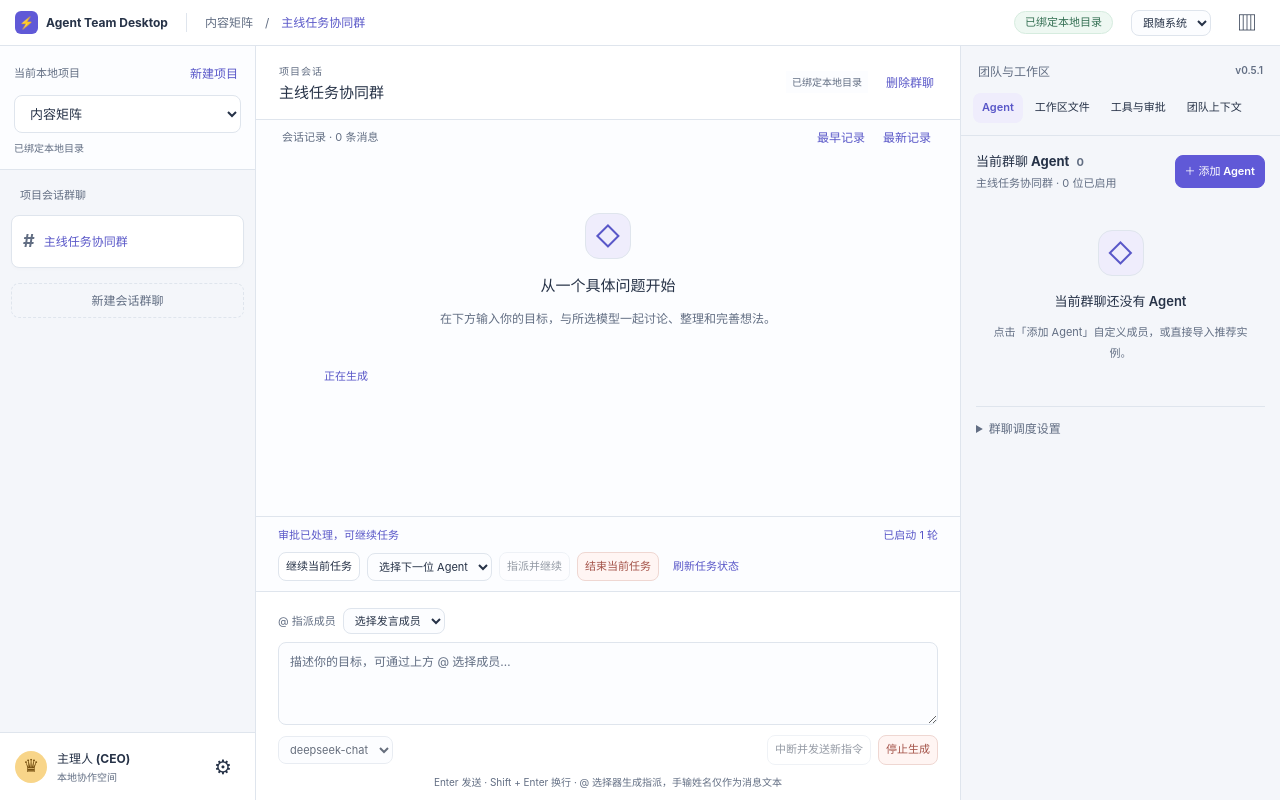
Test: enables explicit continue and assign after Main confirms approved effect is terminal
Expected: the heading "主线任务协同群" is shown, [279,81,384,105]
Expected: the text box named "消息内容" is enabled, [278,642,938,725]
Select "审稿人" in the dropdown named "下一位 Agent" at (430, 567), box [367,553,492,581]
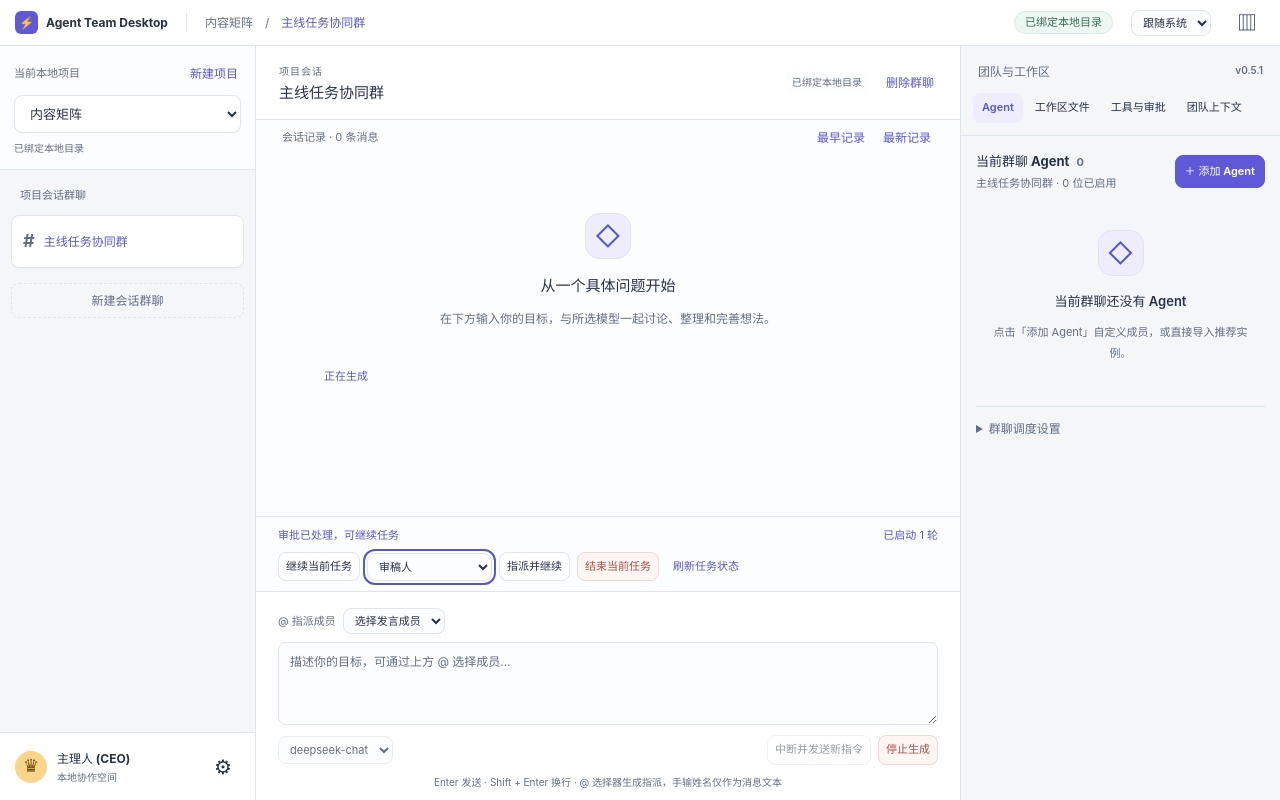
Expected: the button "指派并继续" is enabled, [499,552,570,581]
